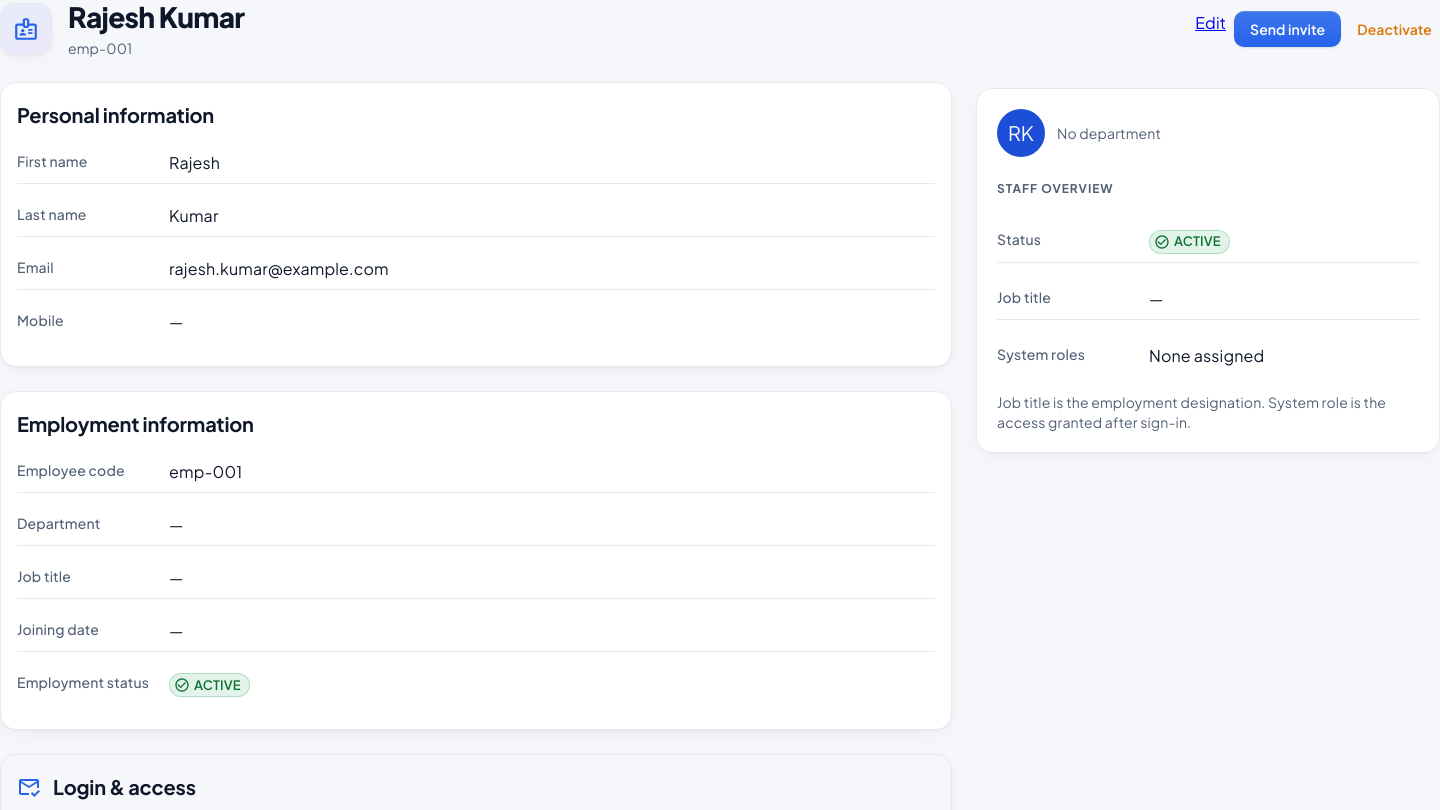
Test: StaffDetailPage › provisions login successfully from the dialog
Click the button "Send invite".
click(1288, 29)  # box [1234, 10, 1341, 47]
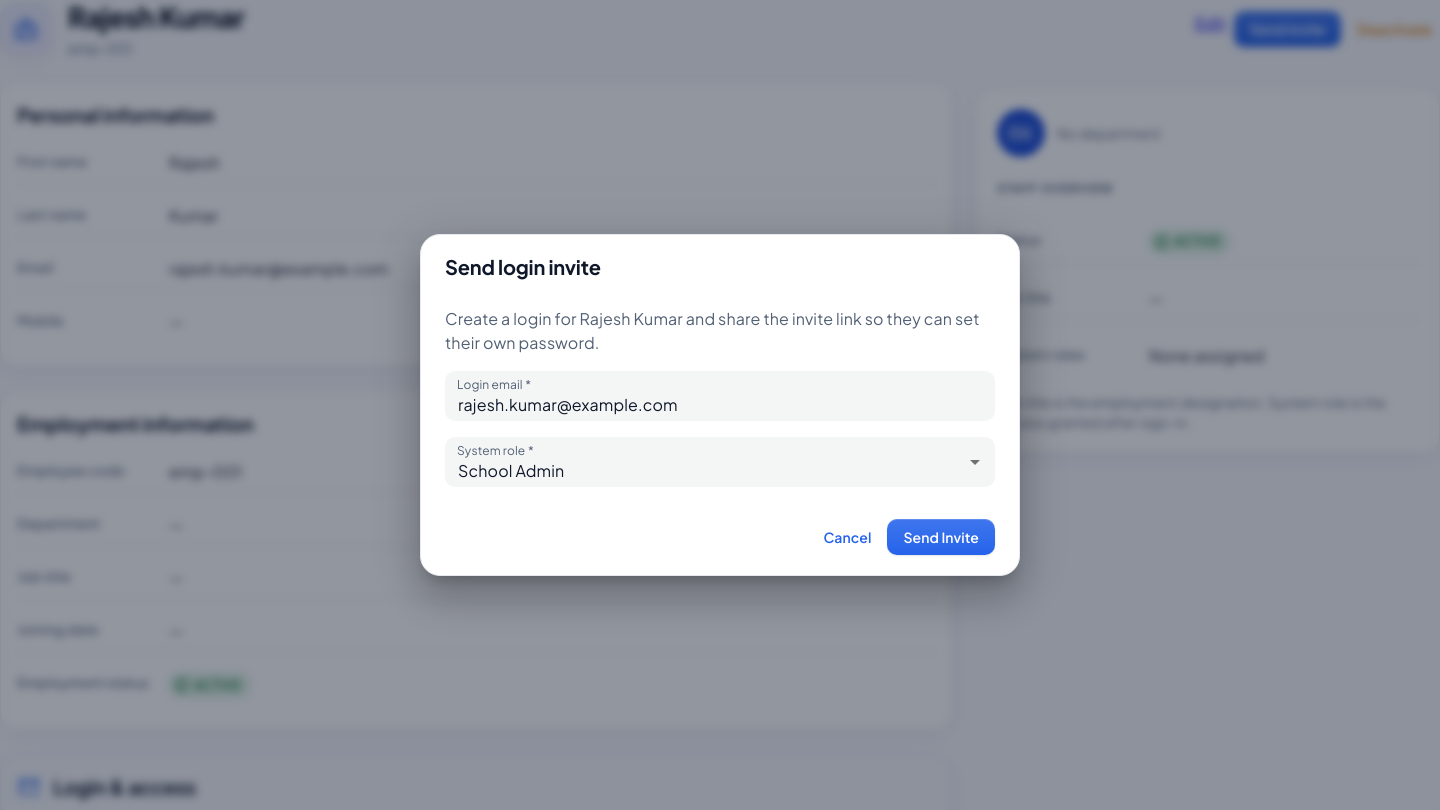
Now the heading "Send login invite" is shown, box [445, 254, 601, 279]
Click the button "Send Invite".
click(941, 537)  # box [887, 519, 995, 555]
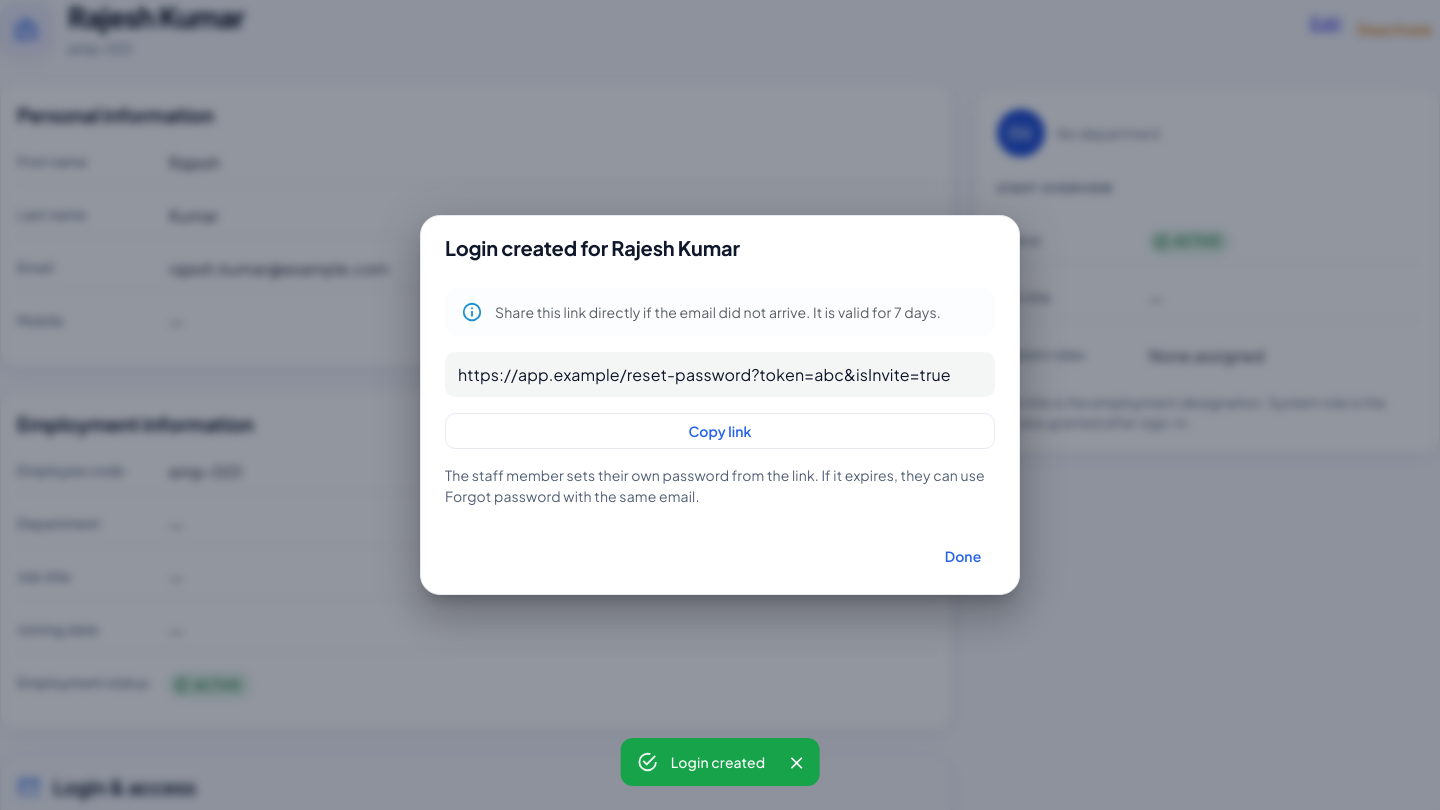
Now the heading "Login created for Rajesh Kumar" is shown, box [445, 235, 740, 260]
Now the field showing "https://app.example/reset-password?token=abc&isInvite=true" is shown, box [446, 353, 994, 396]
